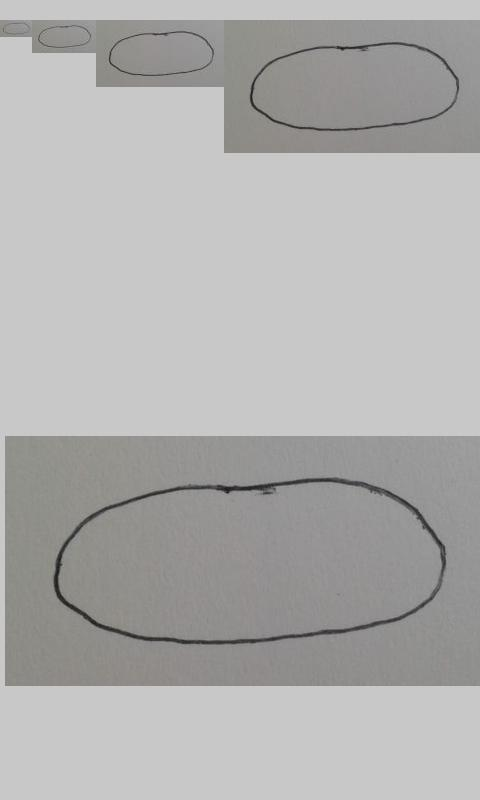chip: (52, 476, 446, 645), (249, 42, 460, 132), (108, 30, 216, 77), (38, 25, 92, 48), (3, 22, 31, 35)
